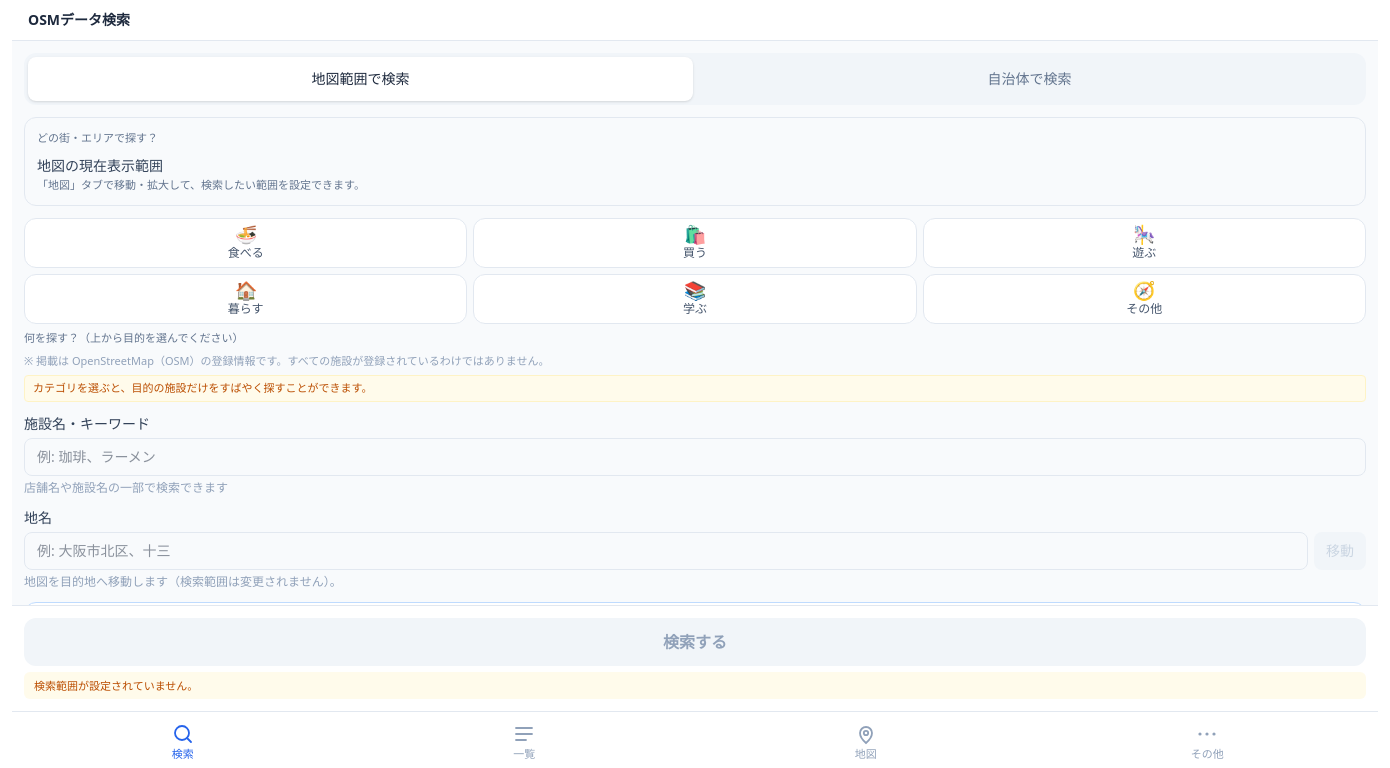
(#59) 検索タブ: 地図モード検索 › カテゴリ選択→検索する: クエリにカテゴリと地図BBOXが反映され、結果が表示される
The image size is (1390, 768).
Step 1. Click the button "🍜 食べる" → click(246, 243), box top-left (24, 218), bottom-right (467, 268)
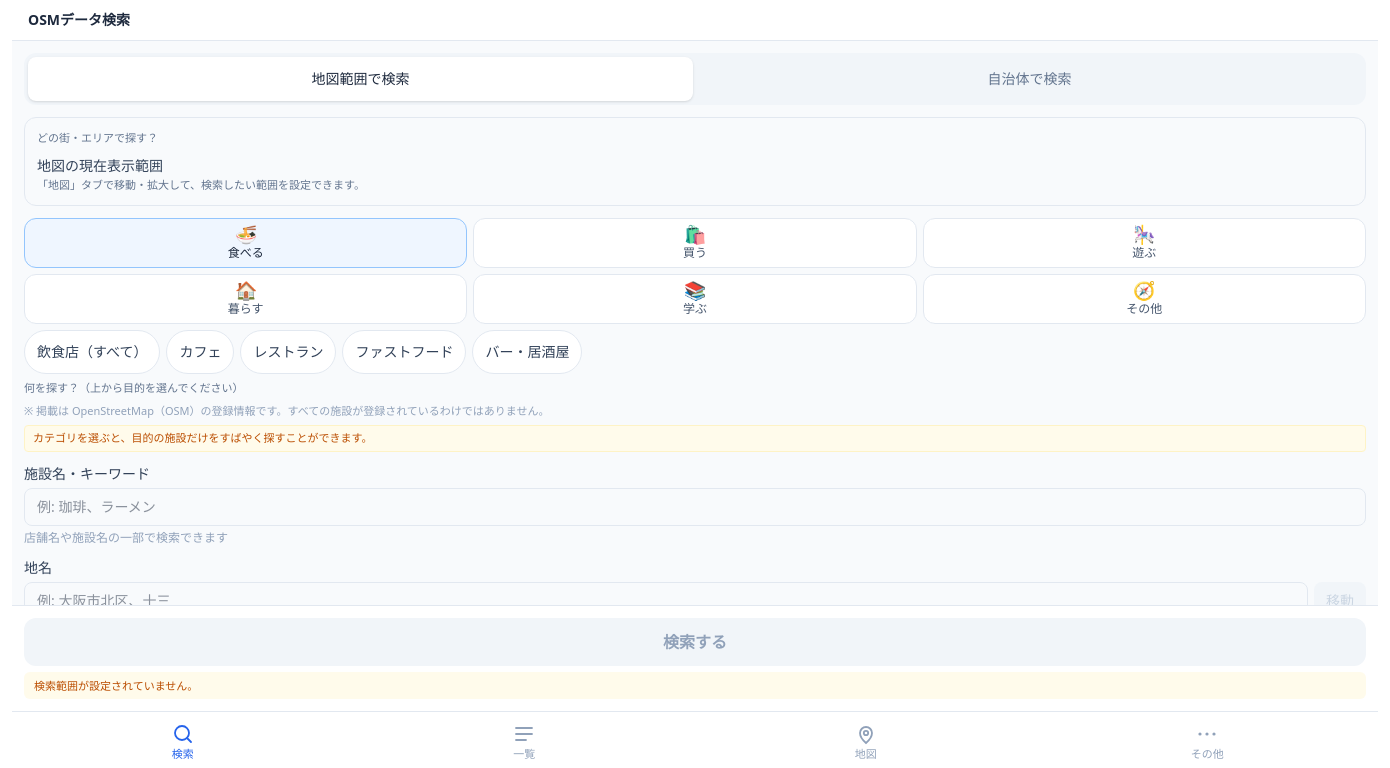
Step 2. Click the button "カフェ" → click(200, 352), box top-left (166, 330), bottom-right (234, 374)
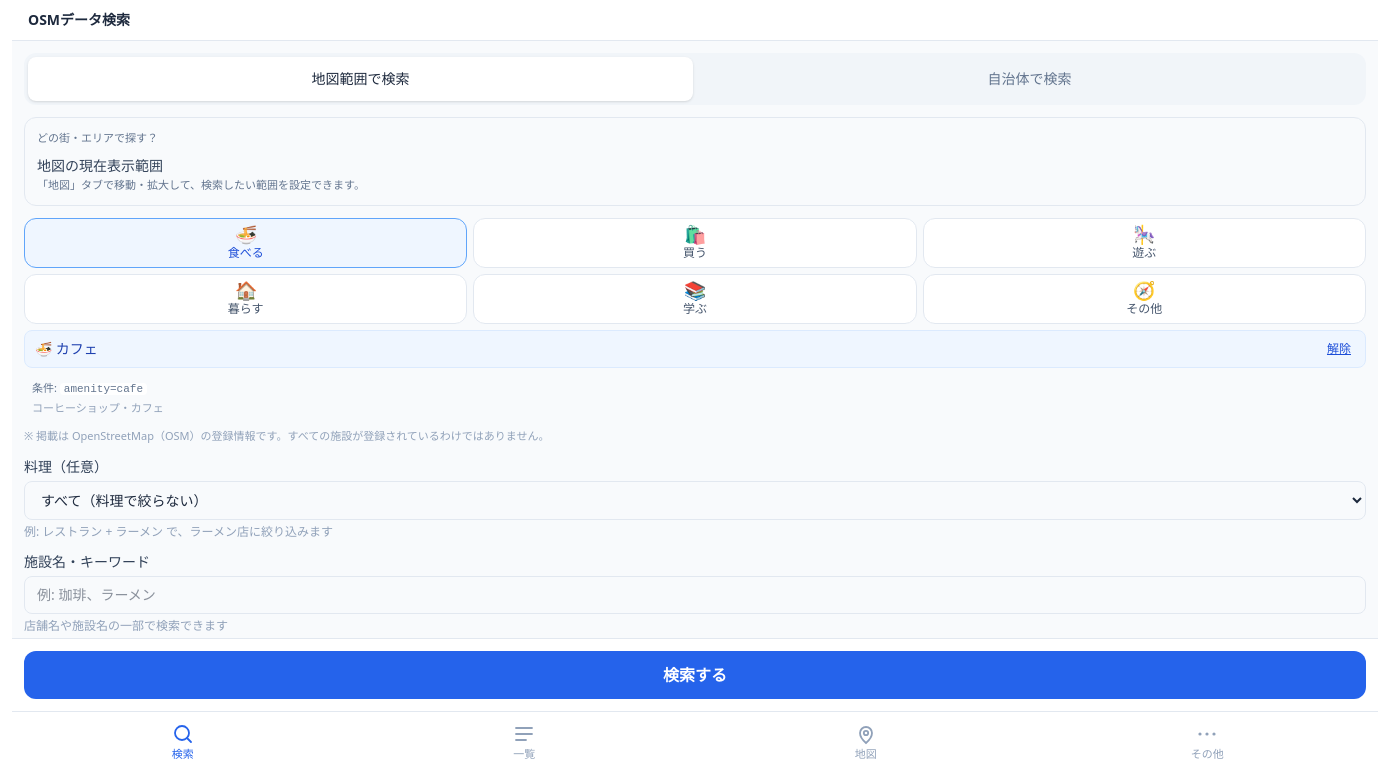
Step 3. Click the button "検索する" → click(695, 675), box top-left (24, 651), bottom-right (1366, 699)
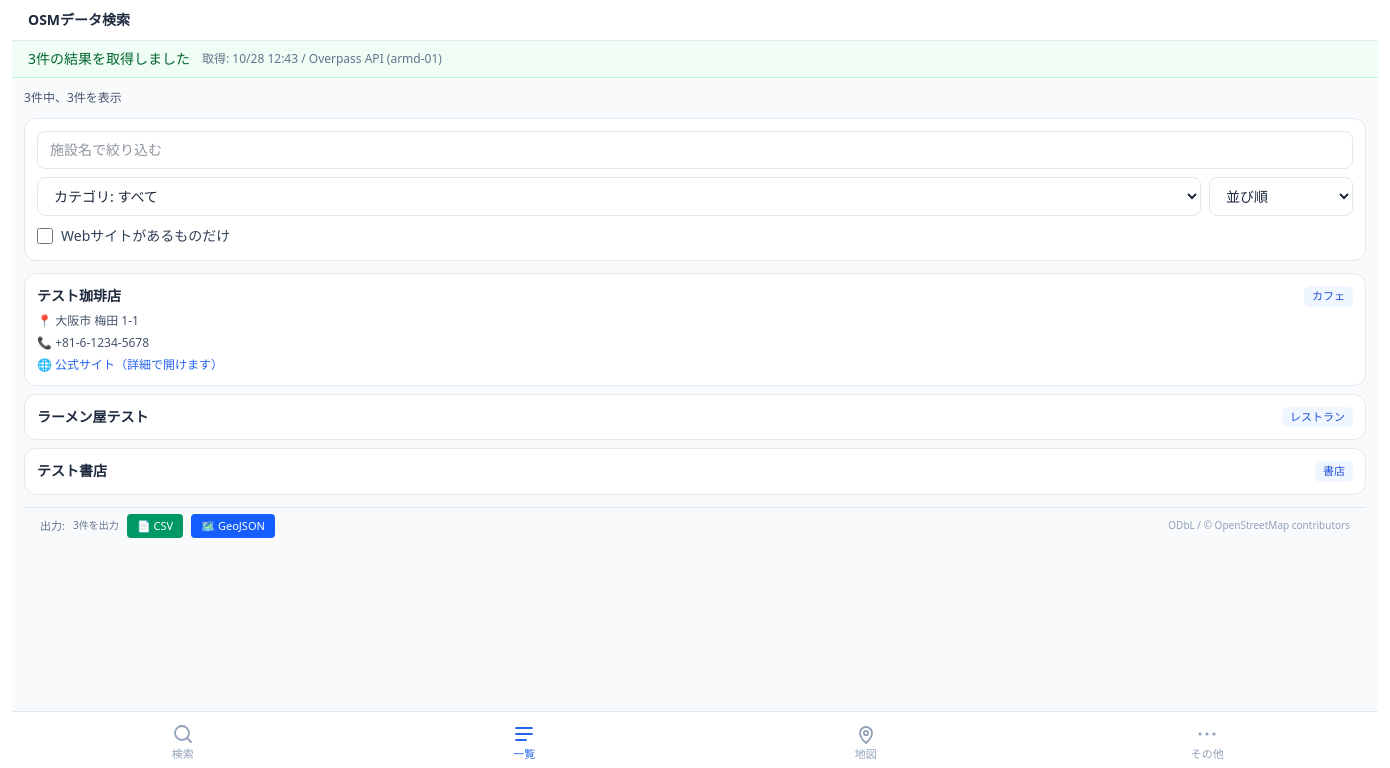
Expected: the text "3件の結果を取得しました" is shown, top-left (28, 49), bottom-right (190, 69)
